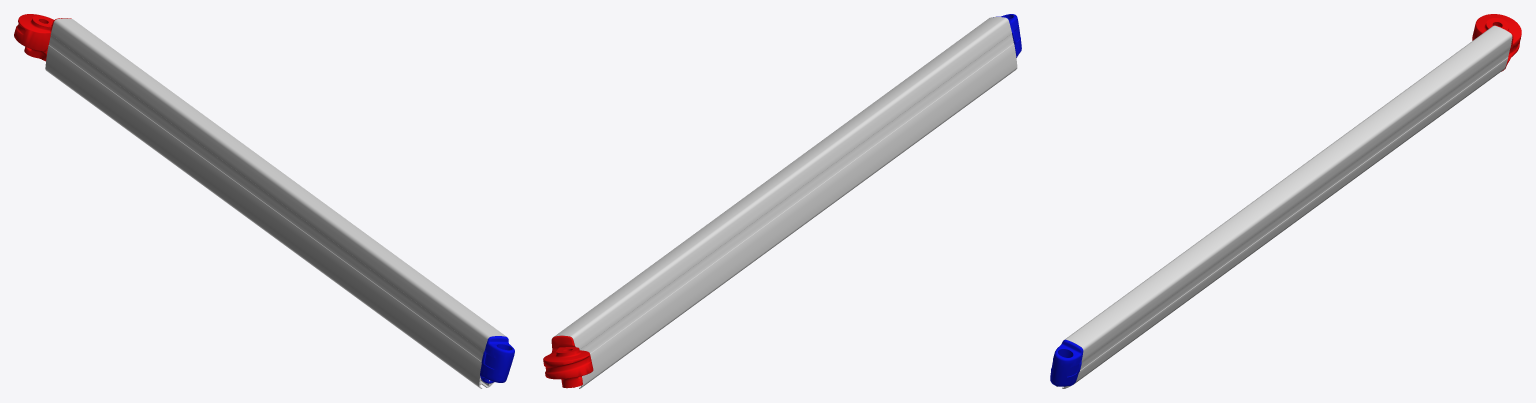
The model's file is Test_Shapekeys_Multimat_NoShapekeys.glb.
The picture shows the model from 3 angles, left to right: view 1: azimuth 30°, elevation 25°; view 2: azimuth 150°, elevation 25°; view 3: azimuth 330°, elevation 25°; orthographic projection.
Visible parts, largest first — view 1: ST_BAN_BRAS; view 2: ST_BAN_BRAS; view 3: ST_BAN_BRAS.
Boxes of the visible parts, left/top/right/bottom form: ST_BAN_BRAS: left=14, top=14, right=514, bottom=388; ST_BAN_BRAS: left=543, top=14, right=1021, bottom=388; ST_BAN_BRAS: left=1050, top=14, right=1521, bottom=388.
Bounding box in the file's own units: 0.0633 × 0.0641 × 1.08.
